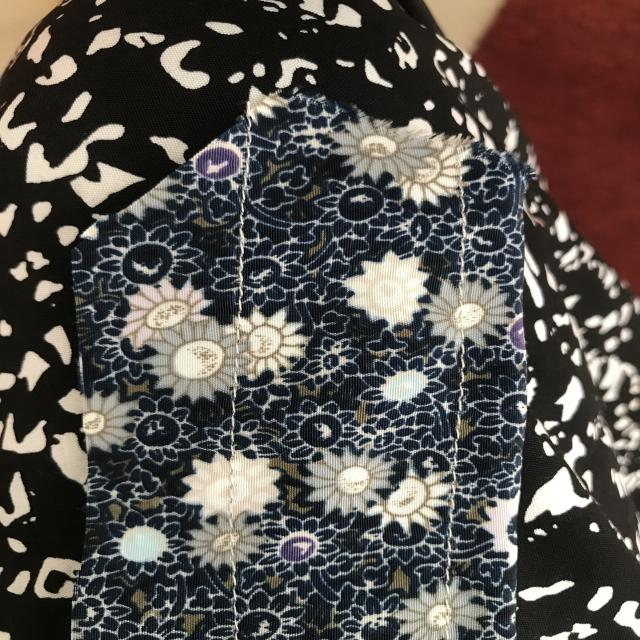good: (231, 193, 260, 298), (209, 389, 247, 446), (454, 364, 472, 454)
